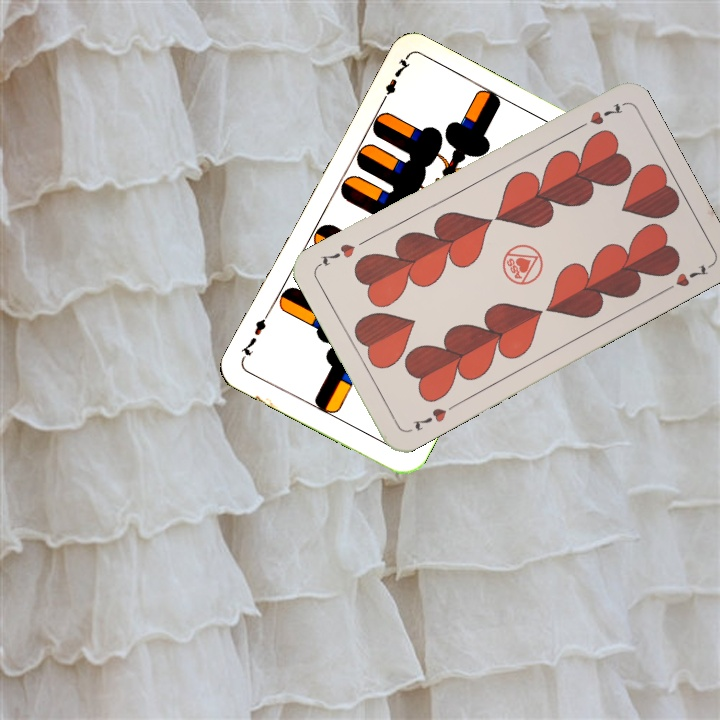E7: (376, 54, 413, 108)
H7: (571, 99, 626, 133), (410, 399, 459, 434)
